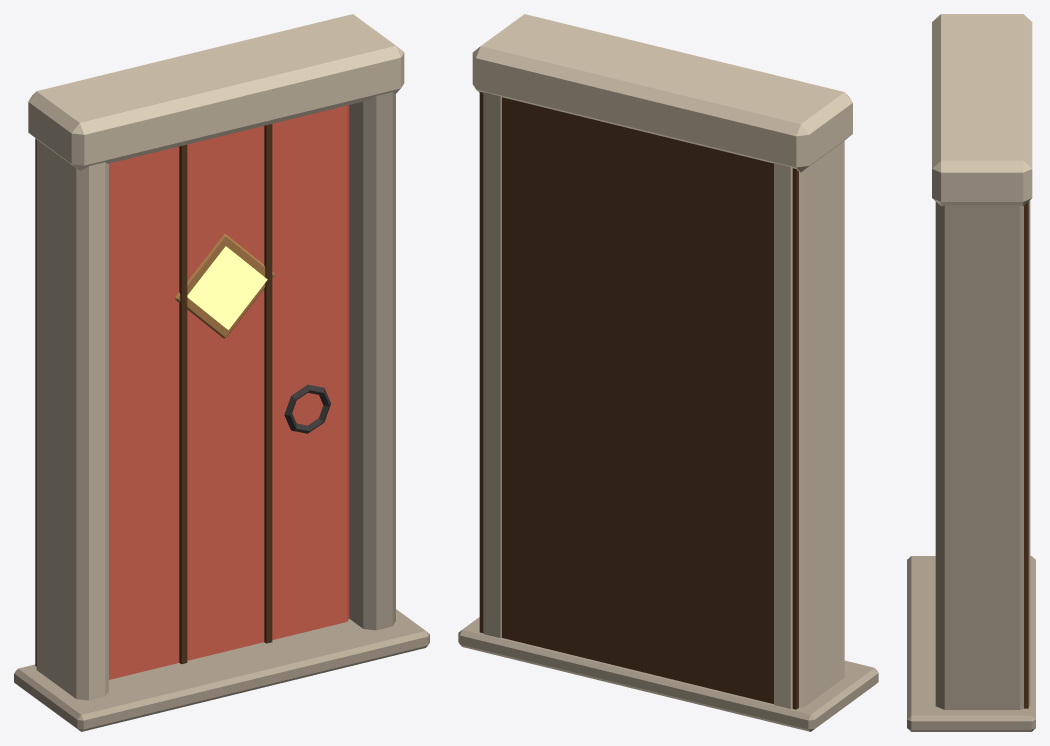
The model's file is mod_door_insert_square.glb.
3 renders of one model, left to right at view 1: azimuth 30°, elevation 25°; view 2: azimuth 150°, elevation 25°; view 3: azimuth 270°, elevation 25°, orthographic. The views are drawn at different scales.
Parts seen in each view (by area): view 1: part_door_leaf, mod_door_insert_square; view 2: mod_door_insert_square; view 3: mod_door_insert_square.
Boxes of the visible parts, left/top/right/bottom form: part_door_leaf: left=109, top=105, right=349, bottom=679; mod_door_insert_square: left=14, top=14, right=429, bottom=731; mod_door_insert_square: left=458, top=14, right=878, bottom=731; mod_door_insert_square: left=907, top=14, right=1035, bottom=731.
Size of the model in its own units: 1.08 by 1.74 by 0.36.
